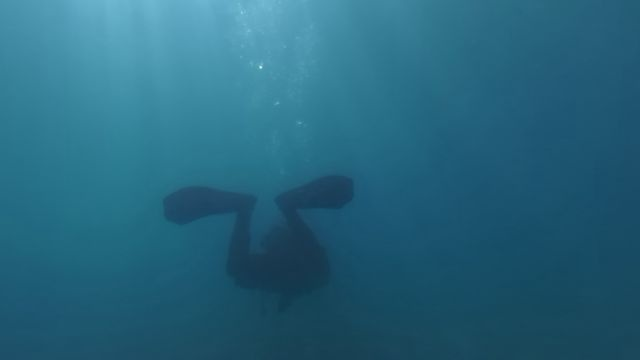Diver: (153, 165, 367, 313)
